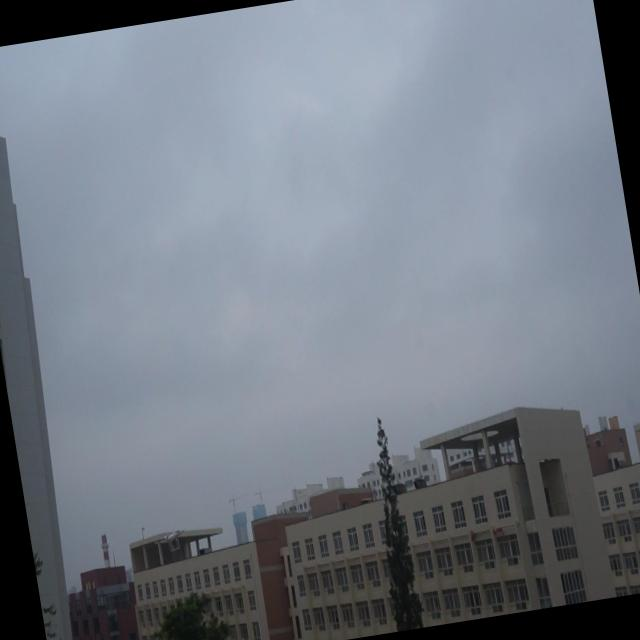drone: (155, 524, 187, 556)
